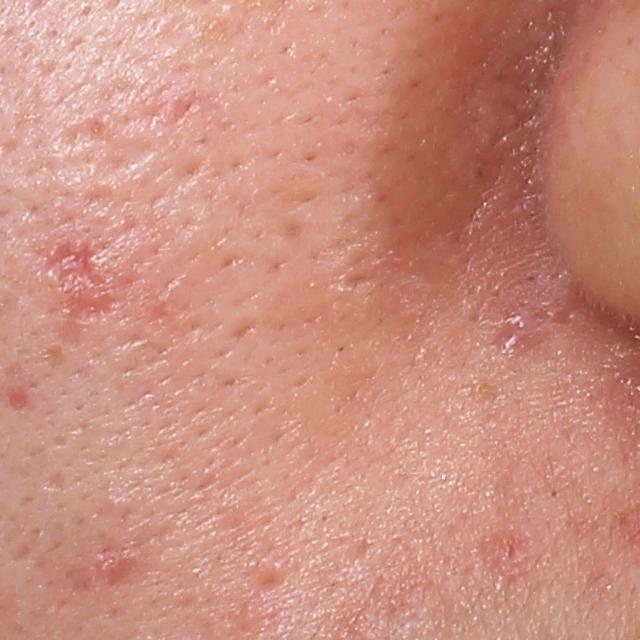atrophic_scar: (58, 115, 162, 188), (39, 238, 117, 322), (252, 569, 287, 592), (43, 469, 67, 493)
papule: (93, 549, 136, 589)
